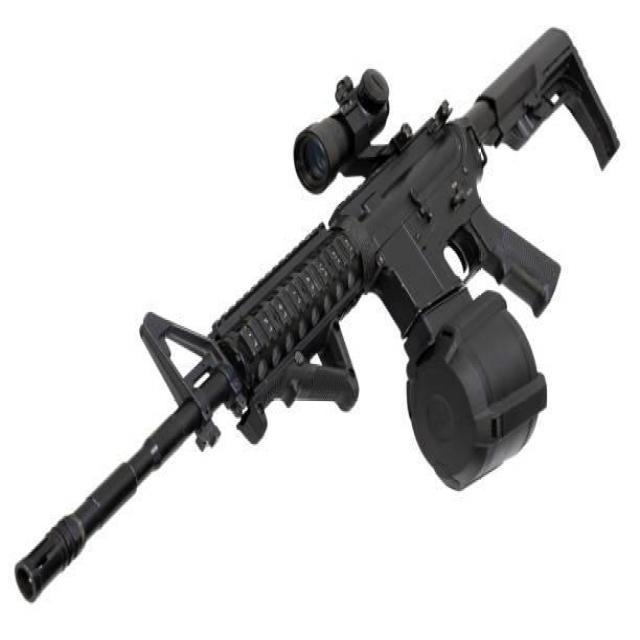weapon: (15, 25, 622, 606)
